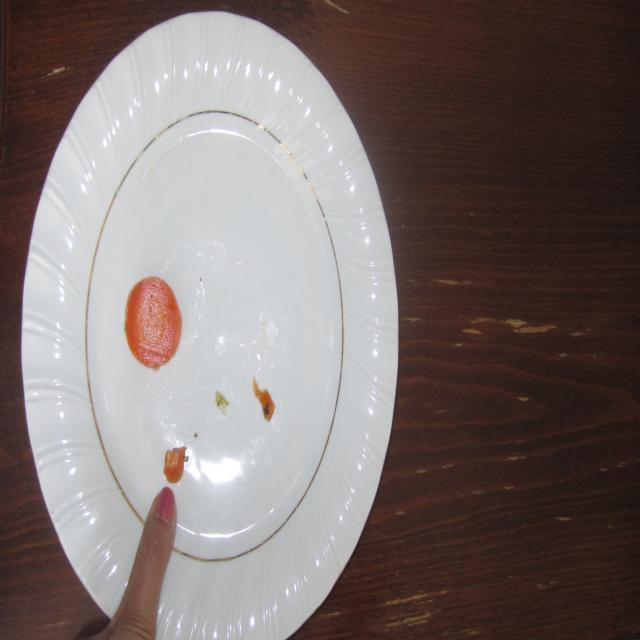Carrot: (119, 270, 188, 380)
Finger: (138, 484, 183, 580)
